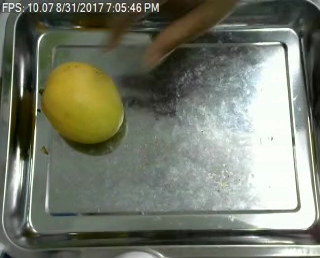Mango: (42, 63, 125, 142)
